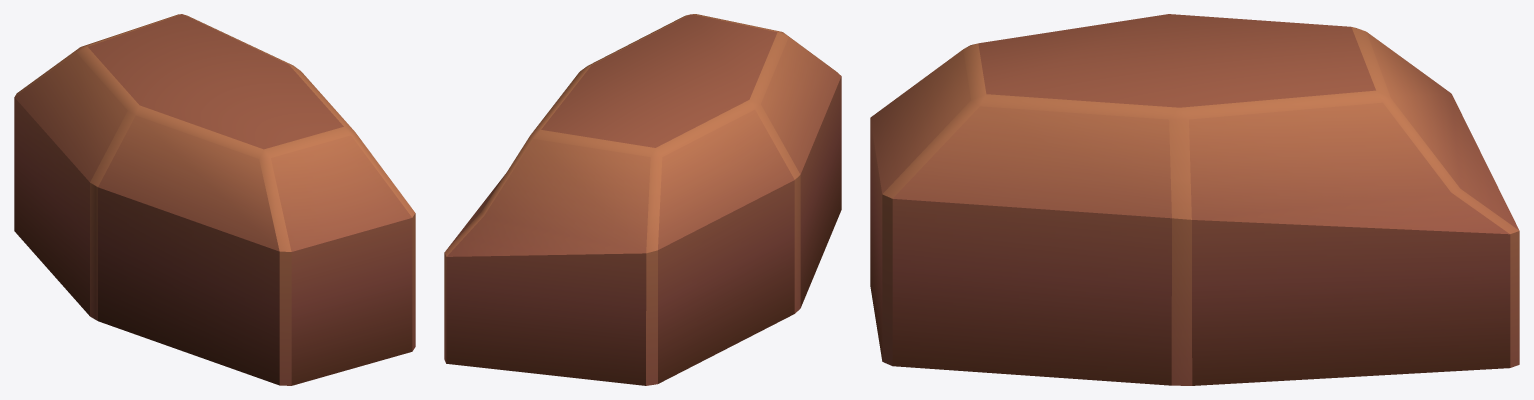
The model's file is Rock-2-6.fbx.
The picture shows the model from 3 angles, left to right: view 1: azimuth 30°, elevation 25°; view 2: azimuth 150°, elevation 25°; view 3: azimuth 270°, elevation 25°; orthographic projection. The views are drawn at different scales.
Visible parts, largest first — view 1: Rock-2-6; view 2: Rock-2-6; view 3: Rock-2-6.
Boxes of the visible parts, <box> form: Rock-2-6: <box>14,14,415,385</box>; Rock-2-6: <box>444,14,841,385</box>; Rock-2-6: <box>870,14,1519,385</box>.
Bounding box in the file's own units: 97.84 × 76.64 × 180.
